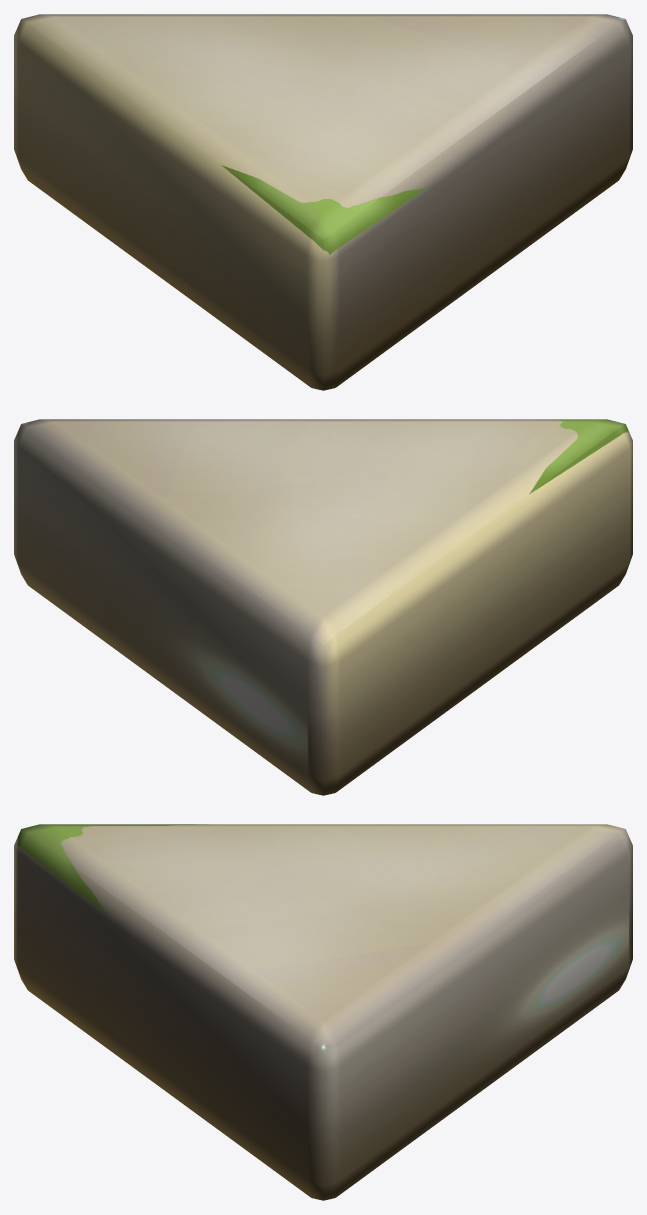
File: 等边三角形.fbx
The picture shows the model from 3 angles, top to bottom: view 1: azimuth 30°, elevation 25°; view 2: azimuth 150°, elevation 25°; view 3: azimuth 270°, elevation 25°; orthographic projection.
Parts seen in each view (by area): view 1: 等边三角形; view 2: 等边三角形; view 3: 等边三角形.
Boxes of the visible parts, box(x1,y1,x2,y2) form: 等边三角形: box(14, 14, 632, 390); 等边三角形: box(14, 419, 632, 795); 等边三角形: box(14, 824, 632, 1200).
Size of the model in its own units: 84.44 by 29.51 by 96.25.
Materials: 1 (1 with a texture image).
